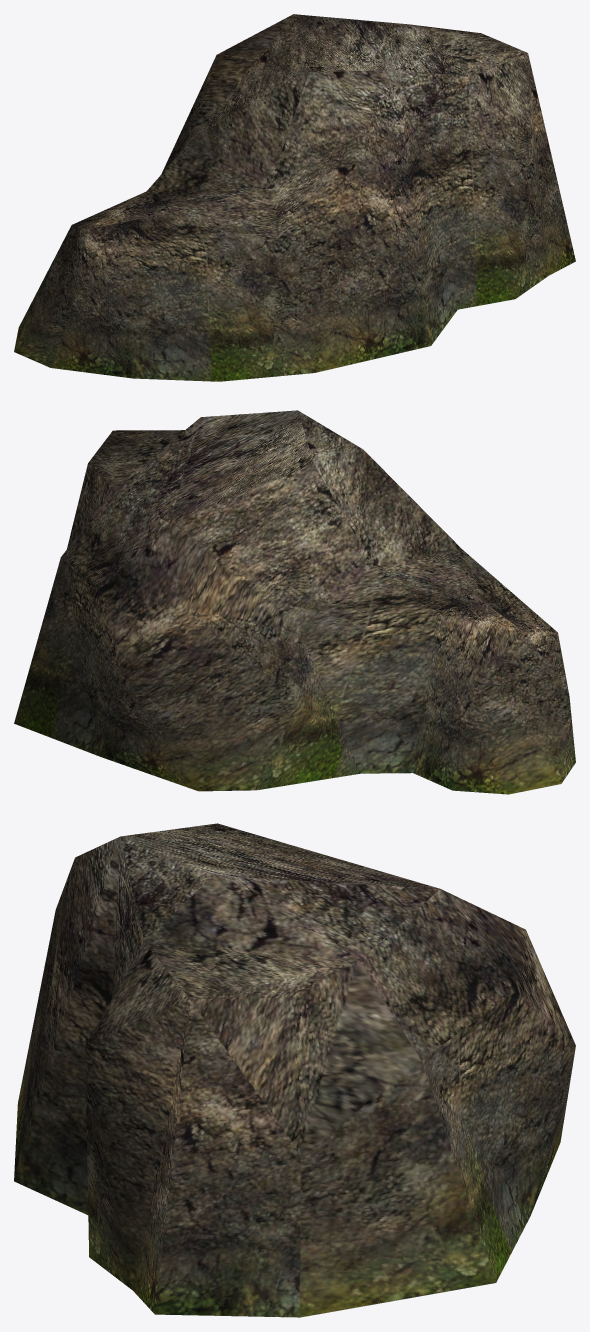
The model's file is stone_field01.glb.
3 renders of one model, top to bottom at view 1: azimuth 30°, elevation 25°; view 2: azimuth 150°, elevation 25°; view 3: azimuth 270°, elevation 25°, orthographic. The views are drawn at different scales.
Parts seen in each view (by area): view 1: stone_field01; view 2: stone_field01; view 3: stone_field01.
Boxes of the visible parts, left/top/right/bottom form: stone_field01: left=14, top=14, right=575, bottom=381; stone_field01: left=14, top=410, right=575, bottom=794; stone_field01: left=14, top=823, right=575, bottom=1317.
Size of the model in its own units: 53.83 by 24.82 by 36.15.
Materials: 1 (1 with a texture image).
